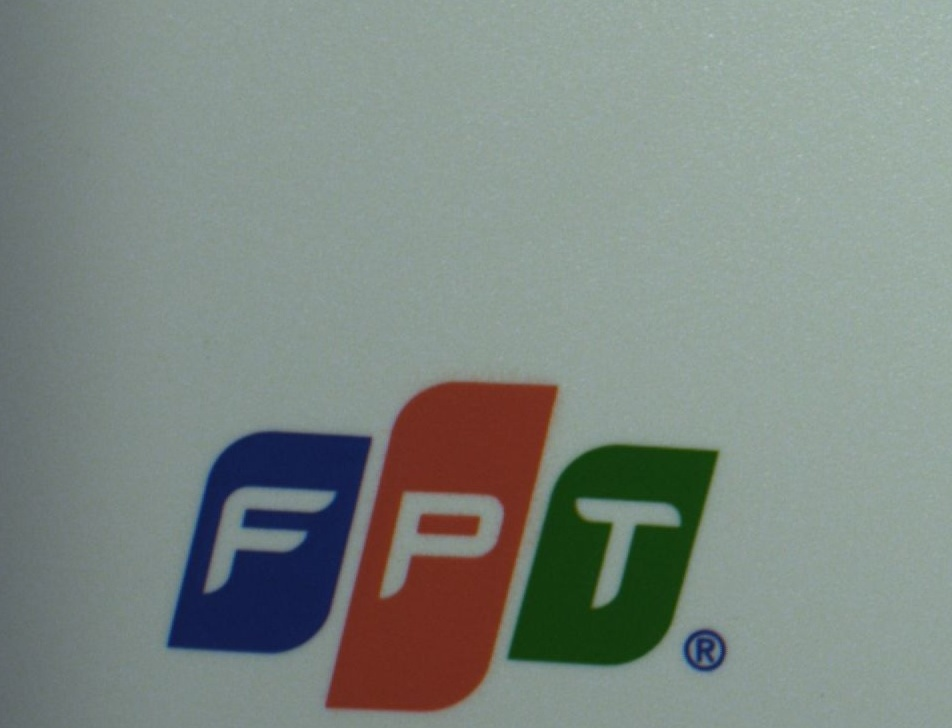BR_FPT: (154, 376, 735, 712)
